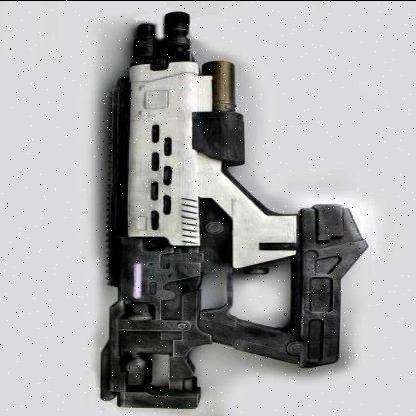rifle: (84, 9, 365, 410)
